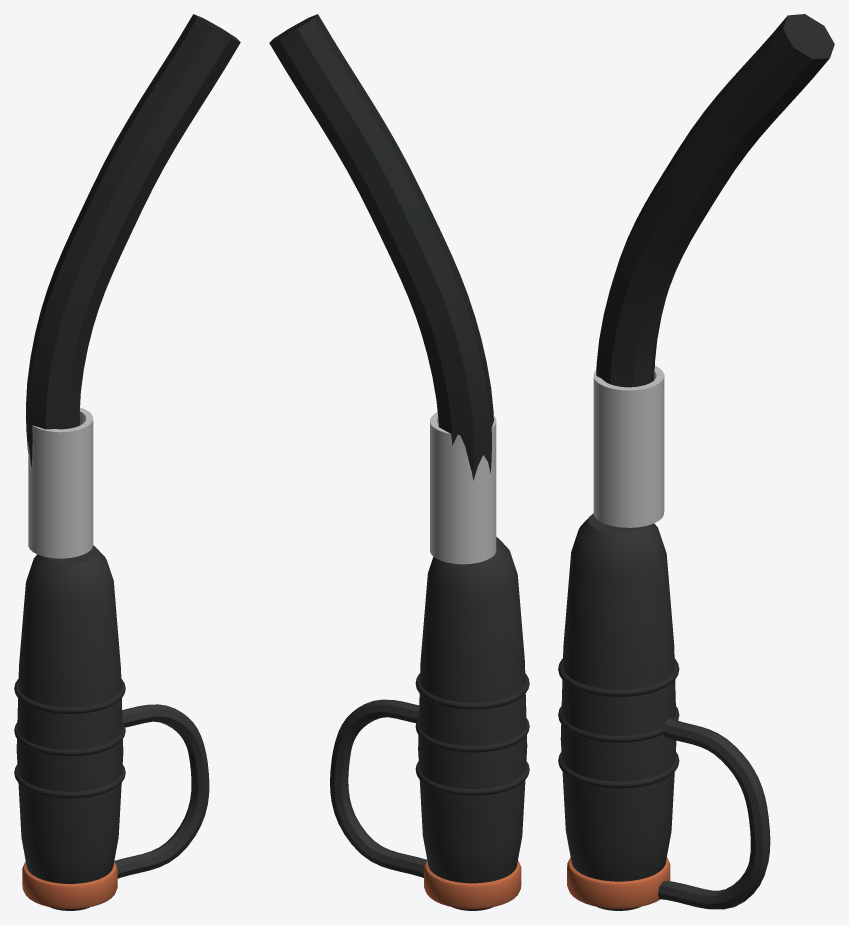
Rendered from mig_welding_gun_body.glb.
The picture shows the model from 3 angles, left to right: view 1: azimuth 30°, elevation 25°; view 2: azimuth 150°, elevation 25°; view 3: azimuth 330°, elevation 25°; orthographic projection. The views are drawn at different scales.
Parts seen in each view (by area): view 1: mig_welding_gun_body; view 2: mig_welding_gun_body; view 3: mig_welding_gun_body.
Boxes of the visible parts, bbox=[...] form: mig_welding_gun_body: bbox=[14, 14, 240, 910]; mig_welding_gun_body: bbox=[269, 14, 529, 910]; mig_welding_gun_body: bbox=[558, 14, 834, 910].
Size of the model in its own units: 0.1138 by 0.397 by 0.0481.
